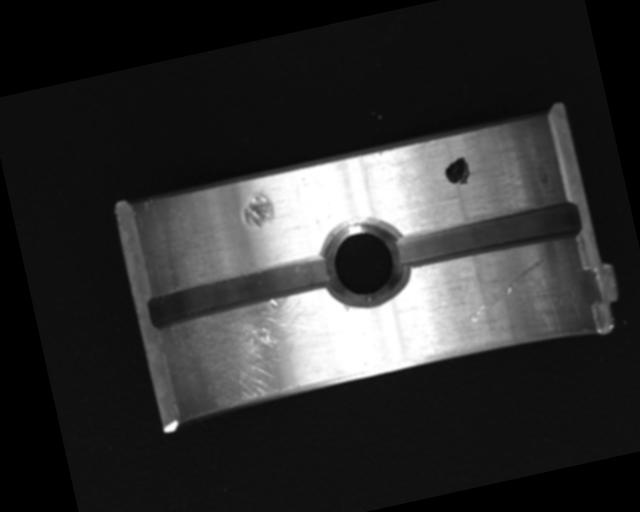blot: (441, 154, 473, 189)
bruise: (238, 185, 278, 231)
gap: (143, 253, 338, 332), (396, 197, 583, 271)
hole: (315, 210, 414, 315)
nick: (459, 257, 554, 325)
scratch: (167, 284, 354, 417)
